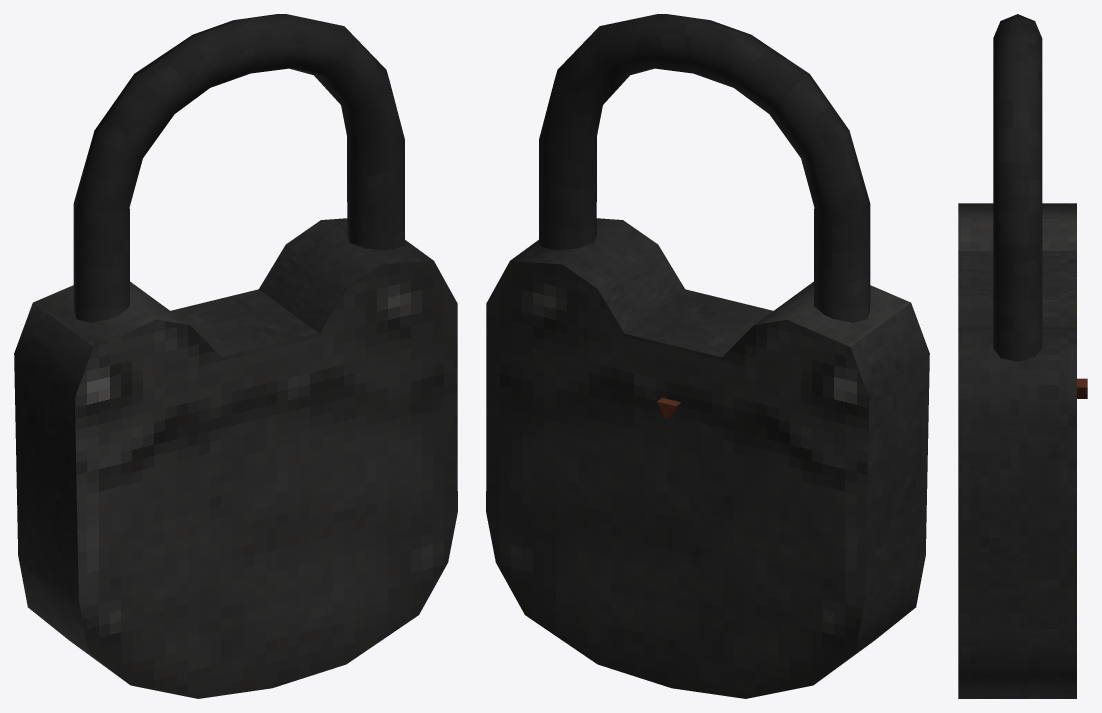
File: padlock_2.glb
3 views of the same model, side by side, from view 1: azimuth 30°, elevation 25°; view 2: azimuth 150°, elevation 25°; view 3: azimuth 270°, elevation 25° (orthographic). The views are drawn at different scales.
Visible parts, largest first — view 1: padlock_2, padlock_2_shackle; view 2: padlock_2, padlock_2_shackle; view 3: padlock_2, padlock_2_shackle.
Boxes of the visible parts, x1=… form: padlock_2: x1=14, y1=218, x2=457, y2=698; padlock_2_shackle: x1=73, y1=14, x2=404, y2=322; padlock_2: x1=486, y1=218, x2=929, y2=698; padlock_2_shackle: x1=539, y1=14, x2=870, y2=322; padlock_2: x1=958, y1=203, x2=1087, y2=698; padlock_2_shackle: x1=993, y1=14, x2=1042, y2=361.
Size of the model in its own units: 0.0806 by 0.1299 by 0.0241.
Materials: 1 (1 with a texture image).
